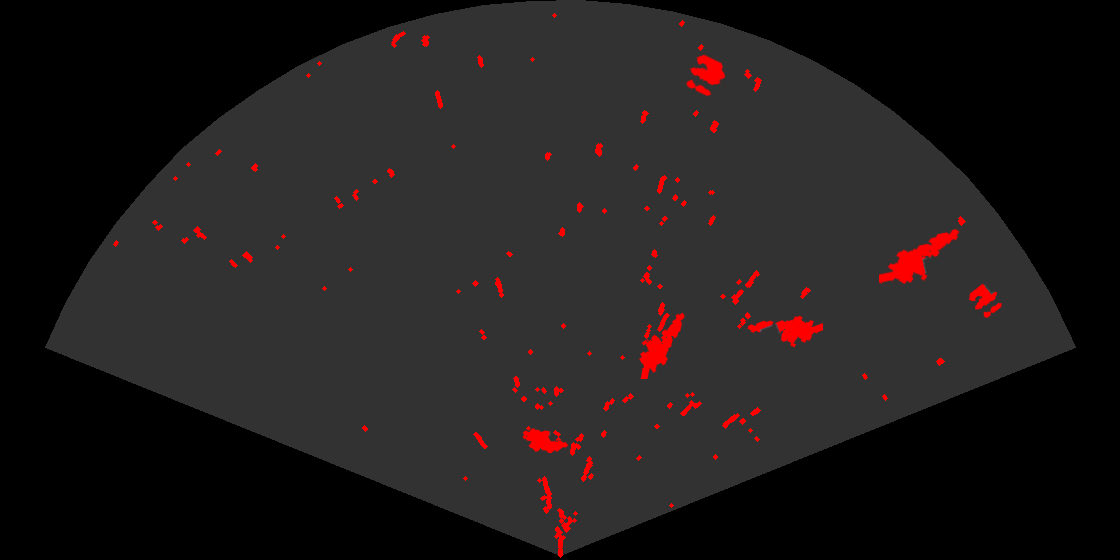AUV: (521, 427, 570, 455)
ball: (684, 53, 727, 98), (967, 282, 1003, 319)
frogman: (879, 227, 961, 286), (638, 311, 686, 379), (746, 314, 823, 349)
